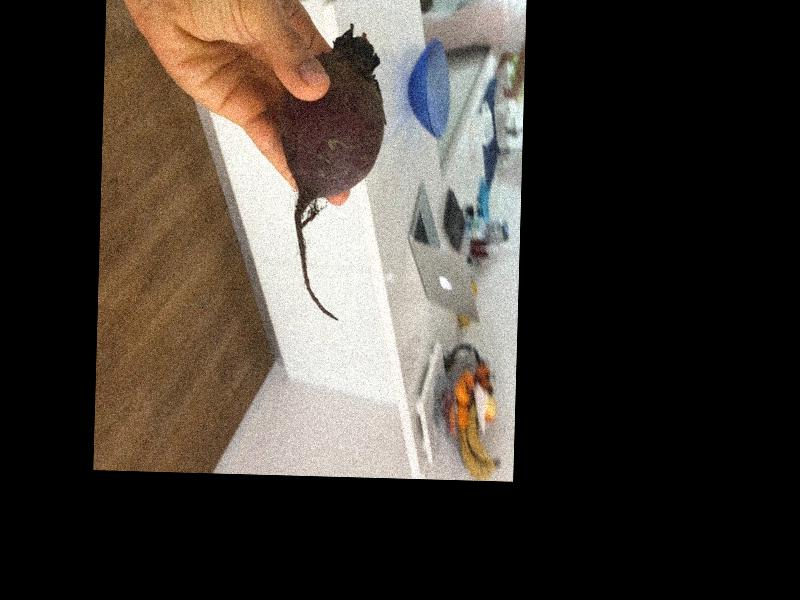Beet: (276, 24, 386, 321)
